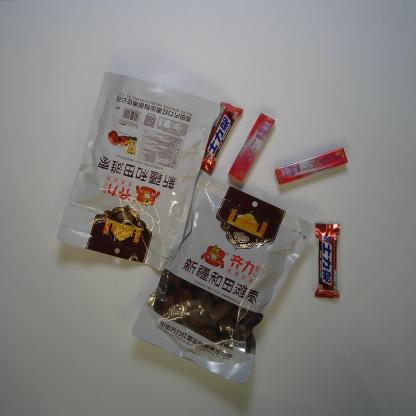Candy: (227, 112, 277, 184), (273, 146, 351, 189)
Chocolate: (200, 101, 244, 176), (314, 222, 341, 300)
Dried Food: (130, 174, 314, 386), (55, 70, 217, 277)
